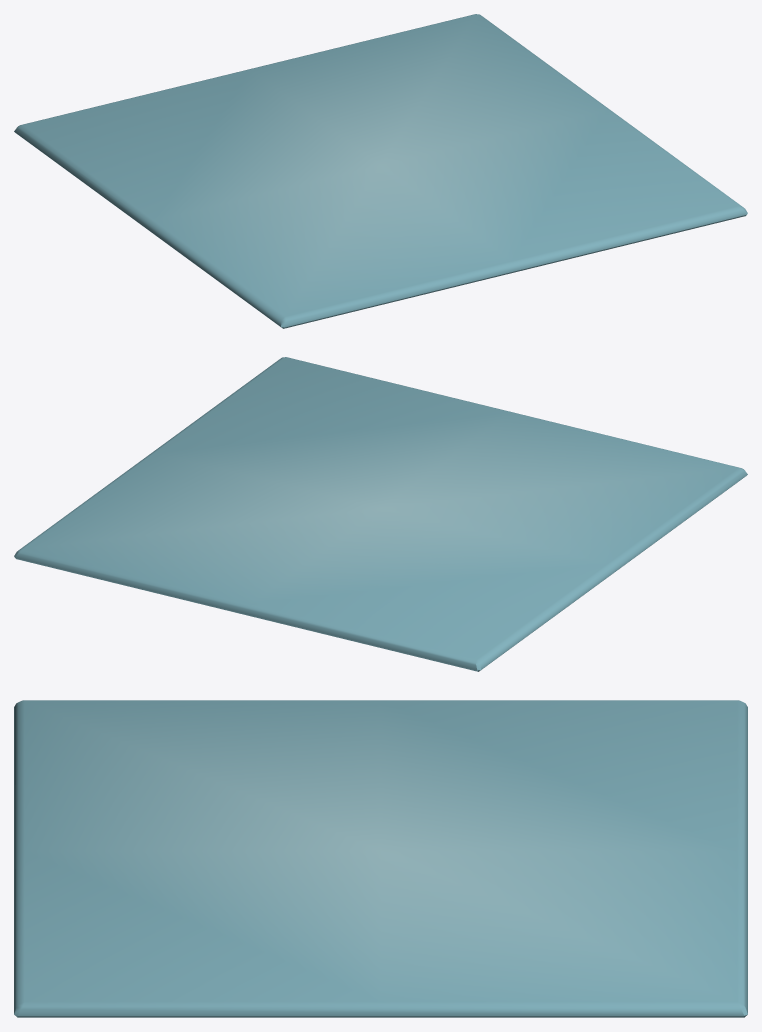
Rendered from water-tiles-5.glb.
3 renders of one model, top to bottom at view 1: azimuth 30°, elevation 25°; view 2: azimuth 150°, elevation 25°; view 3: azimuth 270°, elevation 25°, orthographic. The views are drawn at different scales.
Parts seen in each view (by area): view 1: water_surface; view 2: water_surface; view 3: water_surface.
Boxes of the visible parts, x1,y1,x2,y2 form: water_surface: (14,14,747,328); water_surface: (14,357,747,671); water_surface: (14,700,747,1017).
Bounding box in the file's own units: 2.08 × 0.04 × 2.08.
